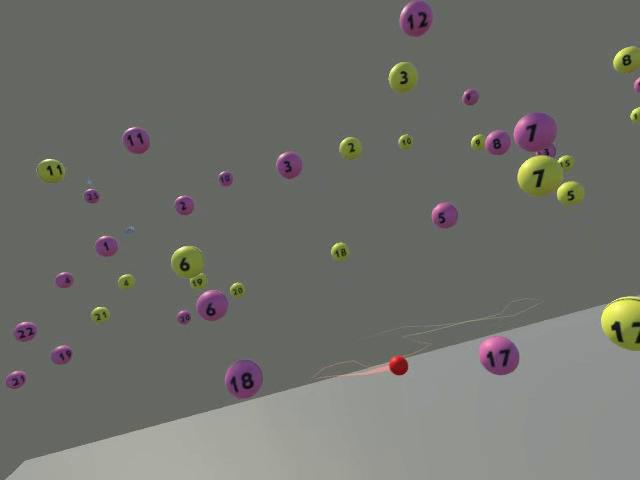ball_01_pink: (95, 235, 117, 257)
ball_02_pink: (174, 195, 195, 215)
ball_02_yellow: (338, 136, 361, 159)
ball_03_pink: (276, 151, 302, 178)
ball_03_yellow: (388, 62, 417, 92)
ball_04_pink: (55, 271, 73, 288)
ball_04_yellow: (117, 274, 135, 290)
ball_05_pink: (431, 202, 457, 228)
ball_05_yellow: (556, 182, 585, 207)
ball_06_pink: (196, 290, 228, 321)
ball_06_yellow: (171, 245, 204, 278)
ball_07_pink: (513, 111, 556, 152)
ball_07_yellow: (516, 155, 561, 195)
ball_08_pink: (485, 129, 510, 154)
ball_08_yellow: (612, 45, 639, 73)
ball_09_pink: (461, 89, 478, 105)
ball_09_yellow: (470, 134, 484, 149)
ball_10_pink: (218, 170, 233, 186)
ball_10_yellow: (397, 134, 413, 149)
ball_11_pink: (122, 125, 150, 153)
ball_11_yellow: (36, 158, 64, 183)
ball_12_pink: (399, 0, 432, 37)
ball_17_pink: (477, 335, 519, 375)
ball_18_pink: (224, 360, 261, 399)
ball_18_yellow: (330, 241, 349, 260)
ball_19_pink: (51, 346, 73, 365)
ball_19_yellow: (189, 273, 207, 290)
ball_20_pink: (177, 310, 191, 324)
ball_20_yellow: (230, 281, 245, 298)
ball_21_pink: (5, 371, 26, 389)
ball_21_yellow: (90, 307, 110, 325)
ball_22_pink: (12, 321, 36, 342)
ball_25_pink: (83, 188, 99, 203)
ball_unknown: (599, 296, 639, 350), (535, 144, 556, 157), (557, 155, 574, 170), (629, 106, 639, 122), (633, 75, 640, 92)
user_cursor: (388, 355, 408, 375)
